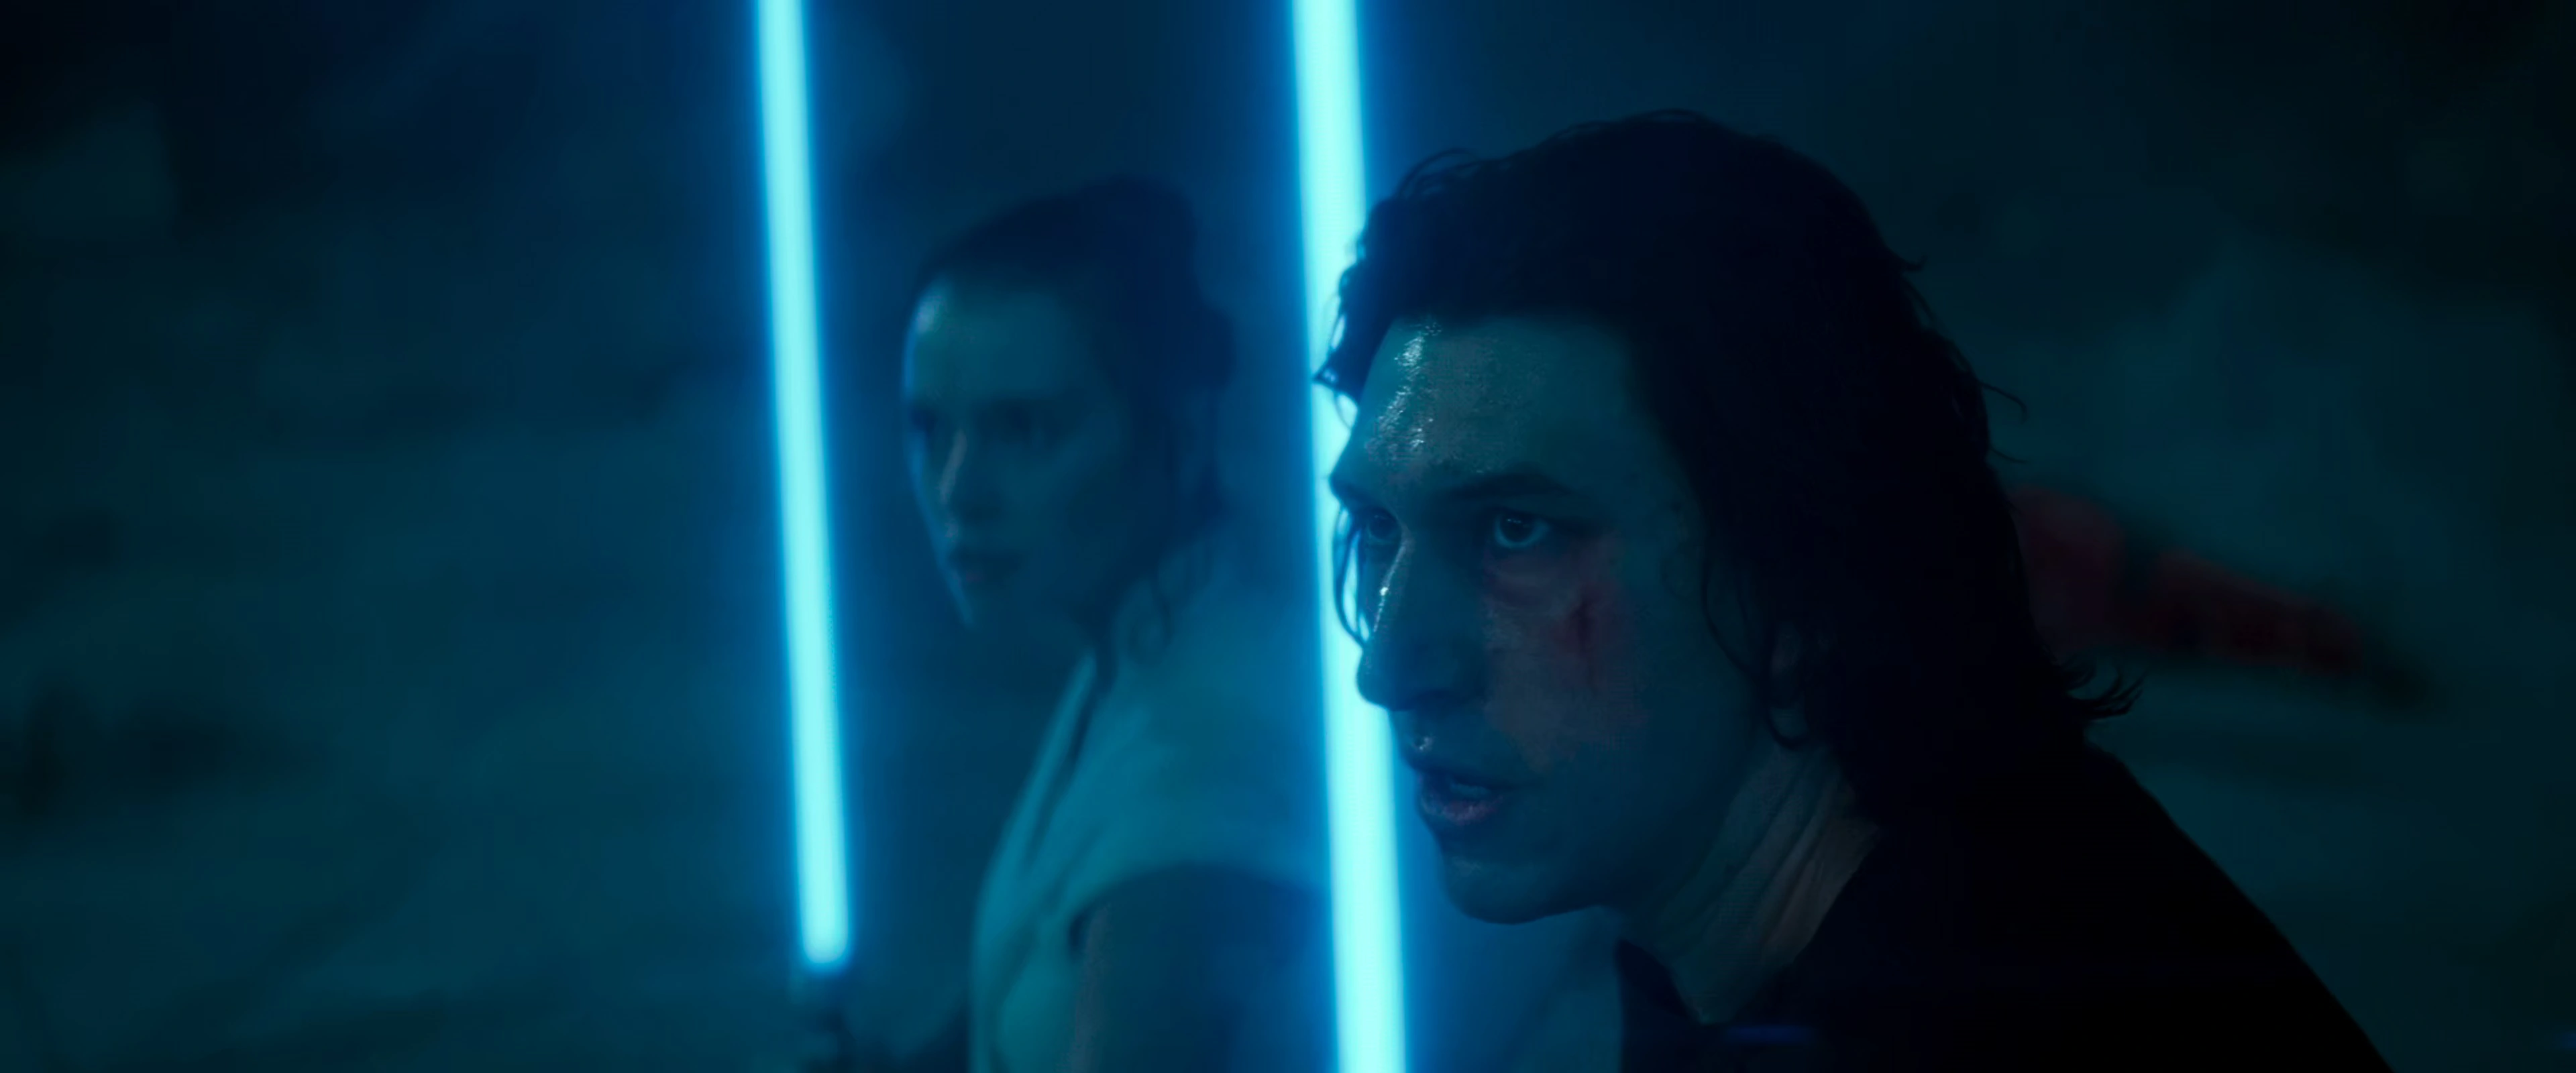Dalek: (1268, 0, 1421, 1073)
